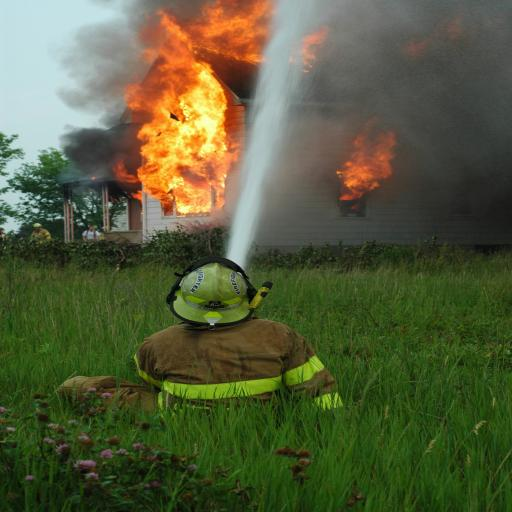buildingfire: (26, 1, 512, 257)
